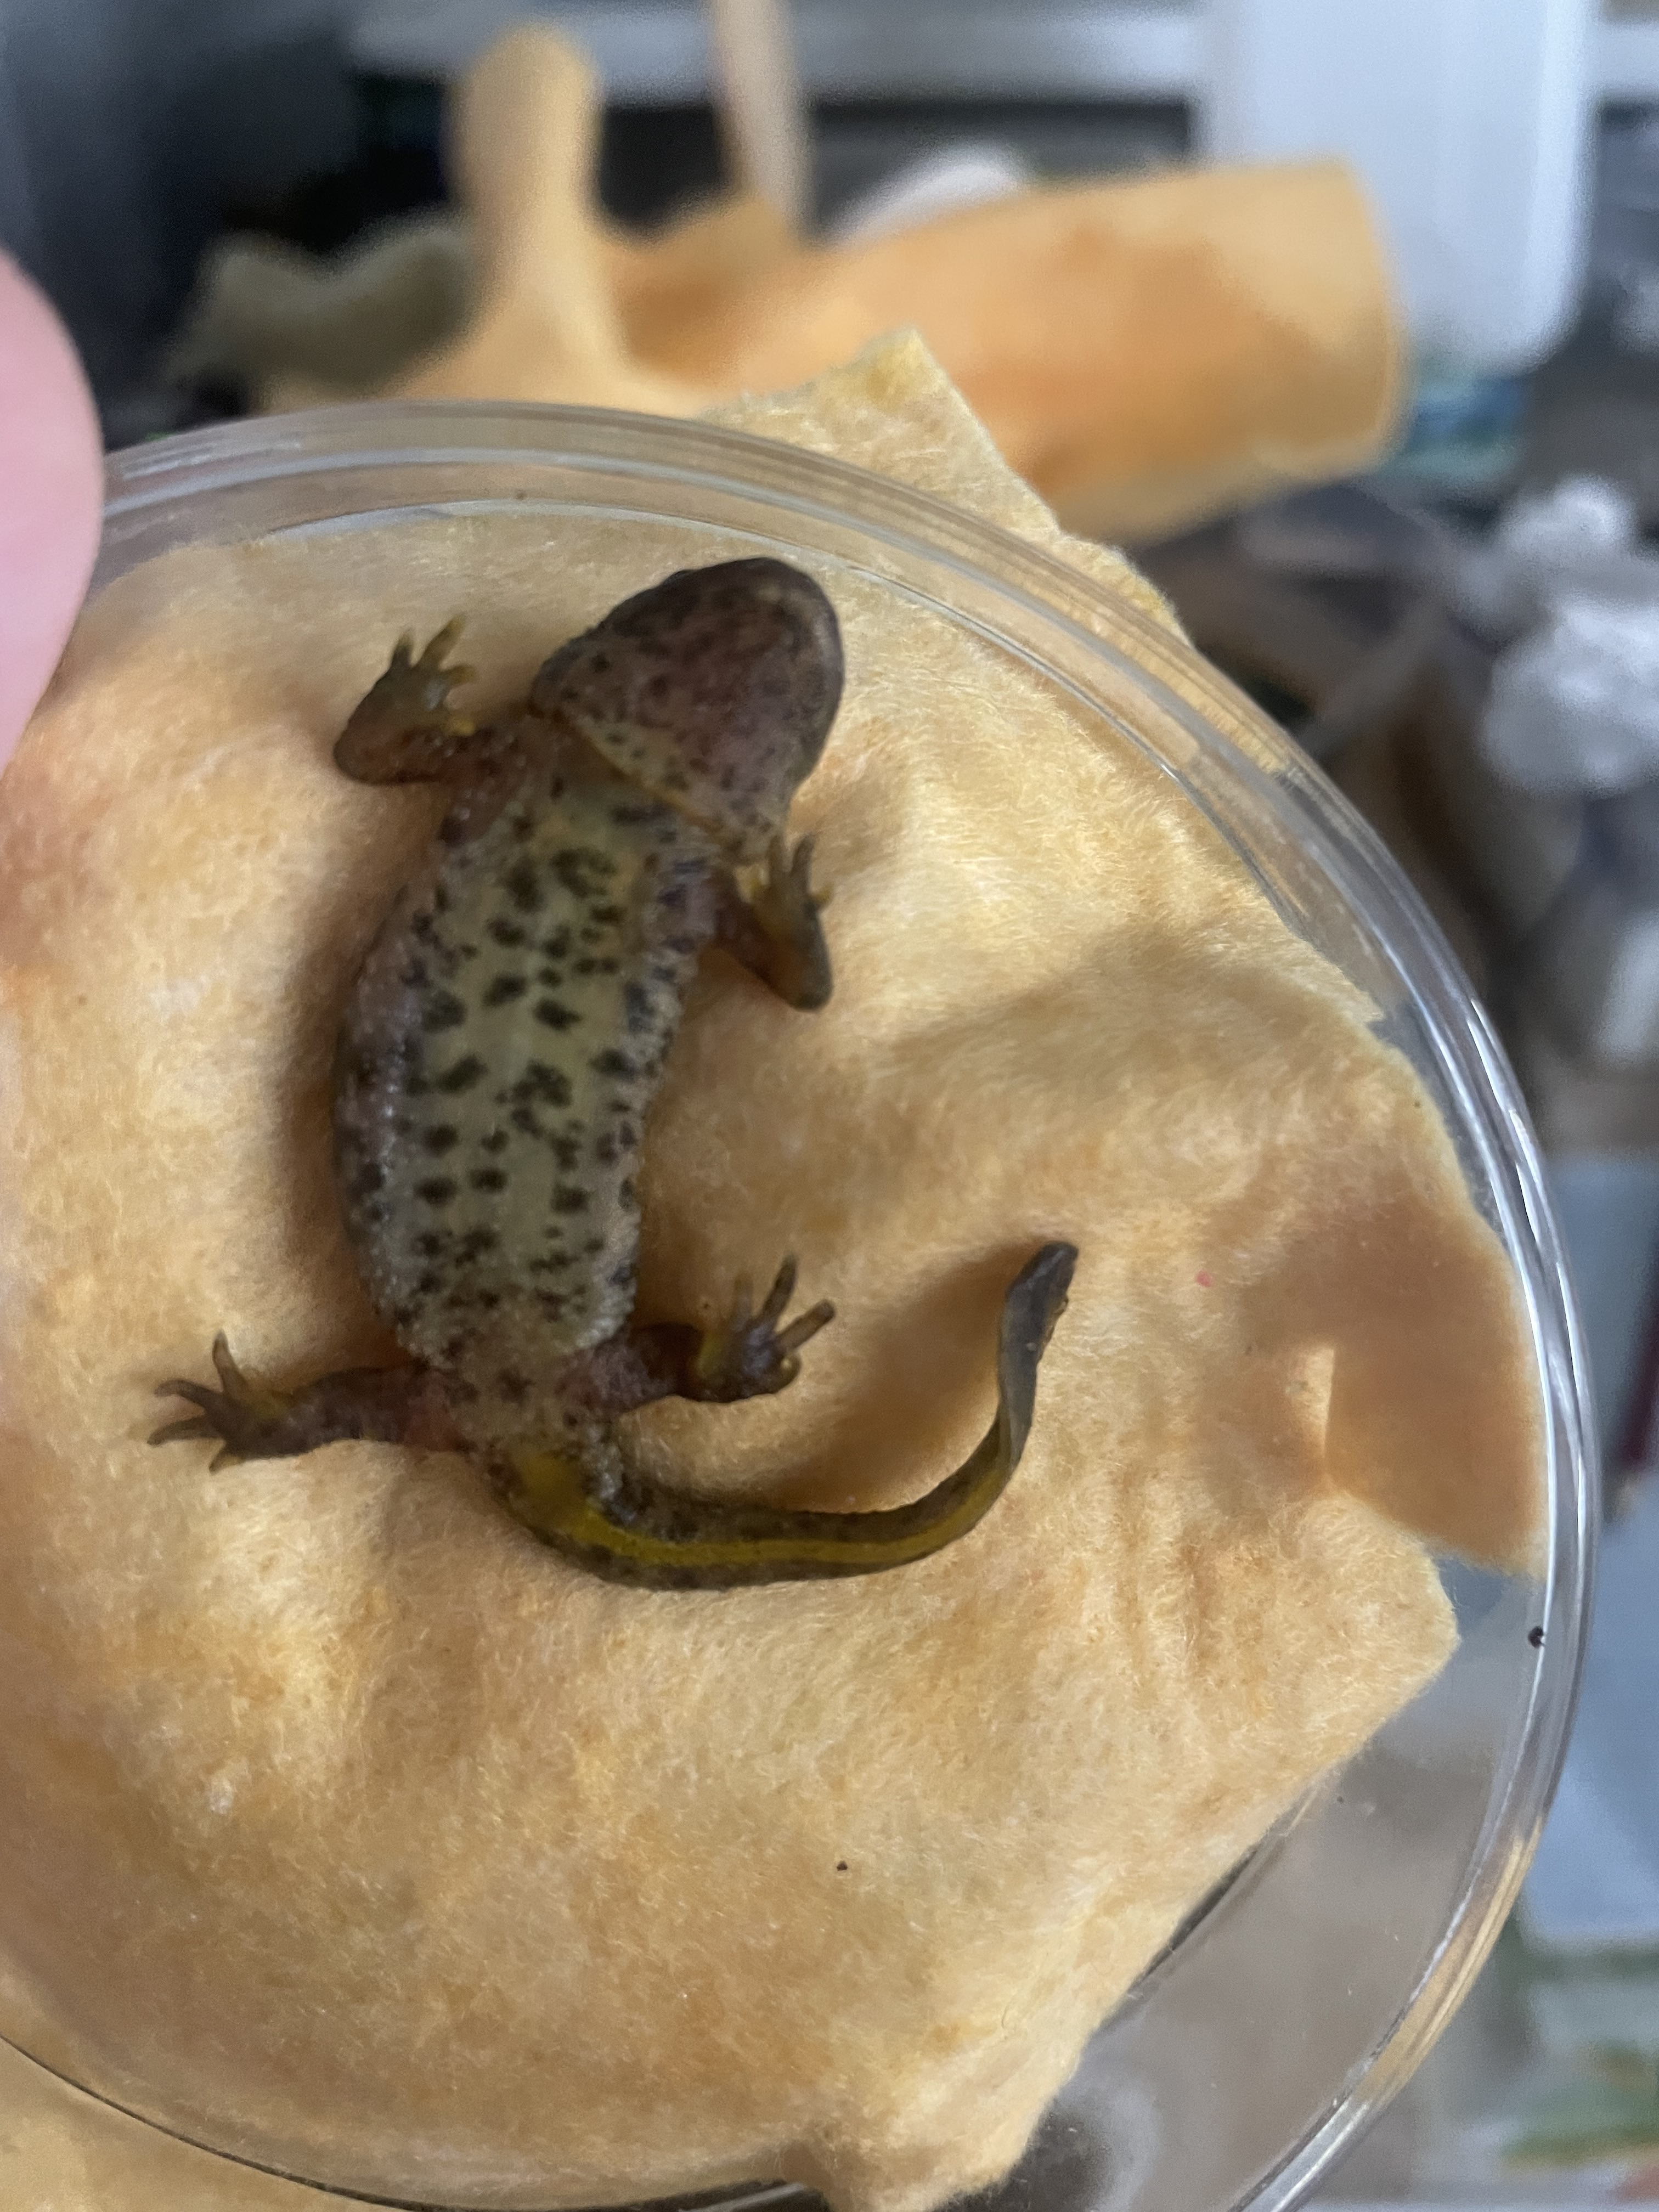newt_ribbed: (332, 781, 714, 1362)
